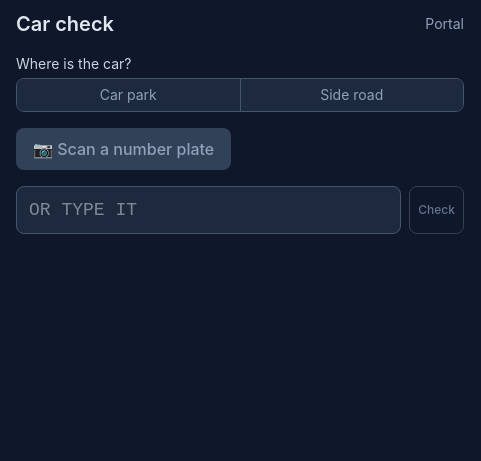
Scenario: Car check › a typed registration that is nowhere reads "Not found"
Click the radio button labelled "Car park".
click(128, 95)  # box left=17, top=79, right=240, bottom=111
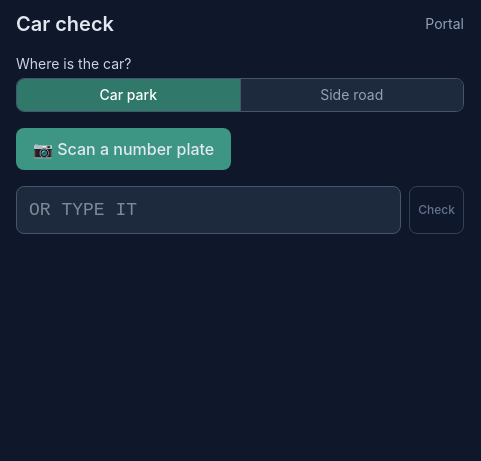
Type "zz99zzz" into the field with placeholder "Or type it".
click(209, 210); type("zz99zzz")  # box left=16, top=186, right=401, bottom=234
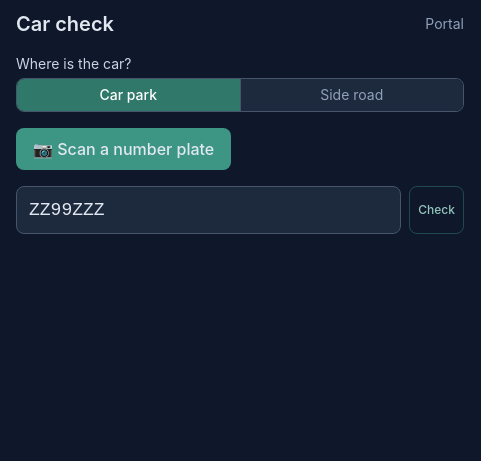
Click the button "Check".
click(437, 210)  # box left=409, top=186, right=464, bottom=234
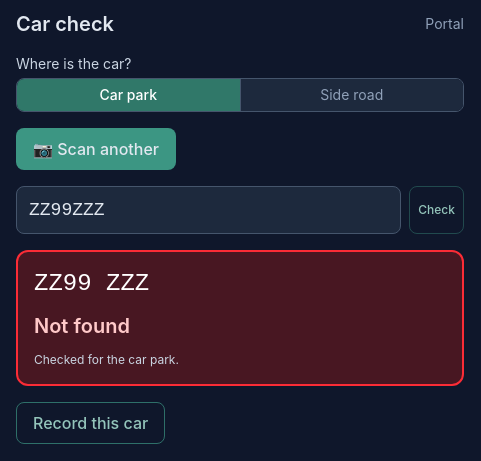
Check: the element with test id "car-check-result" shows "Not found", box left=34, top=314, right=130, bottom=338
